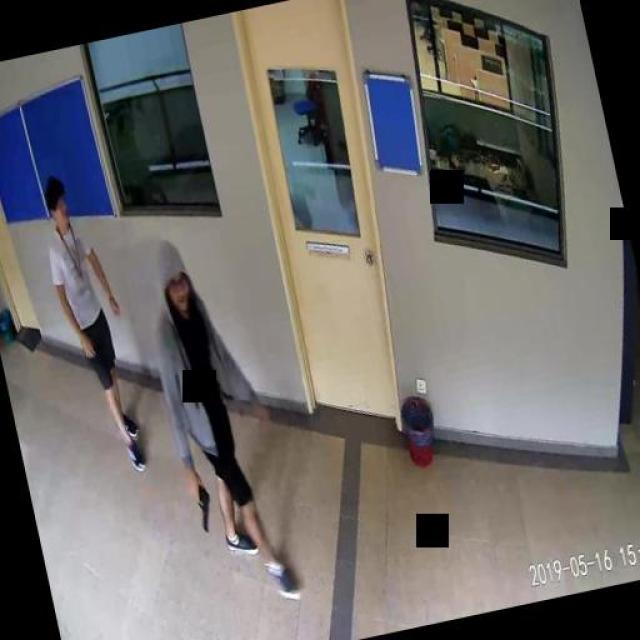gun: (188, 478, 214, 532)
